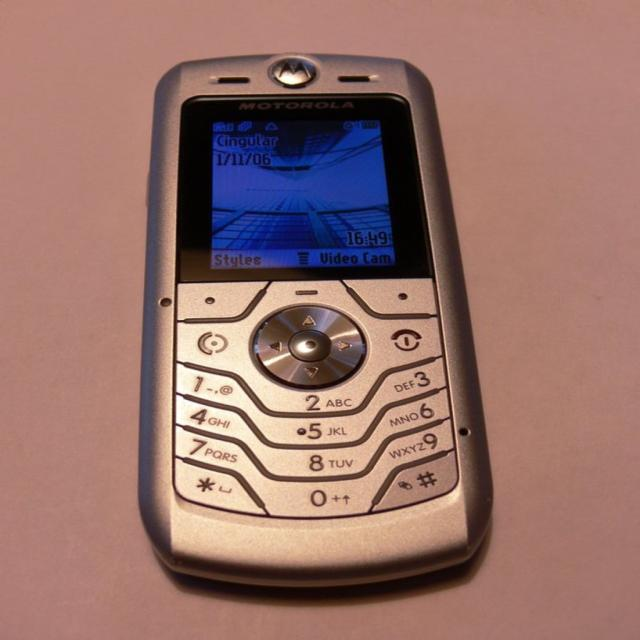Mobile-phone: (135, 56, 496, 586)
